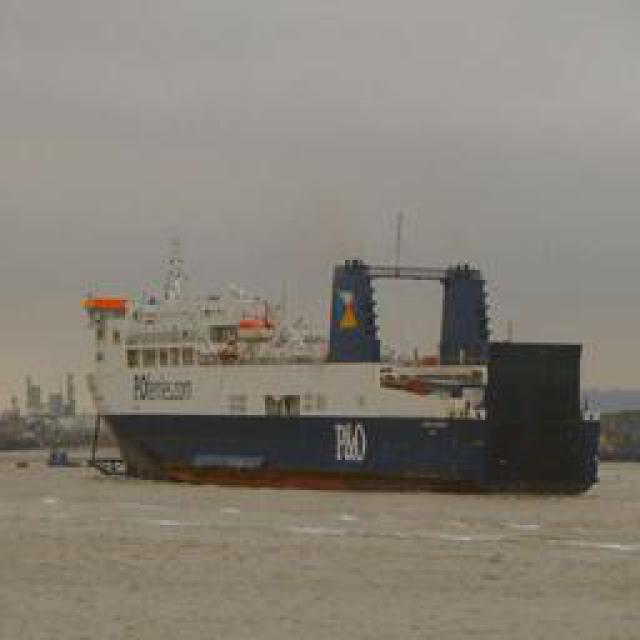Ship: (79, 235, 529, 485)
